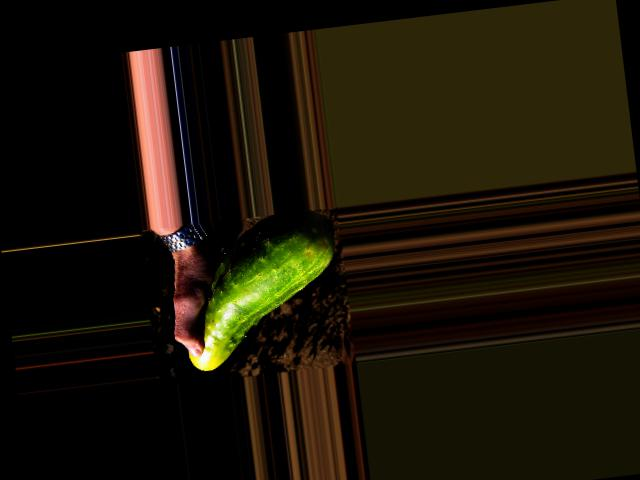cucumber: (173, 206, 349, 372)
